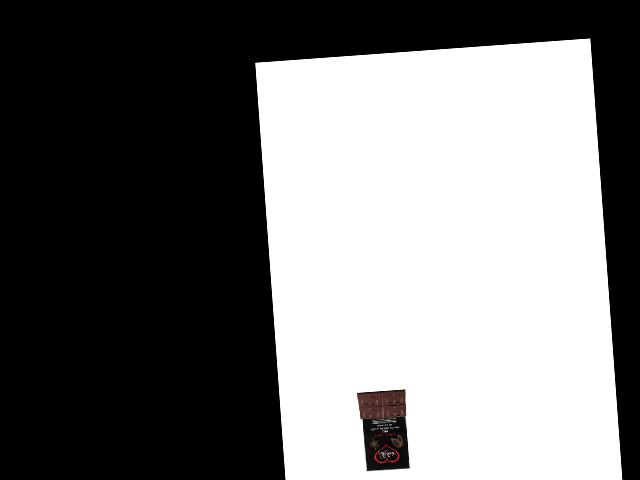chocolate: (353, 386, 412, 472)
